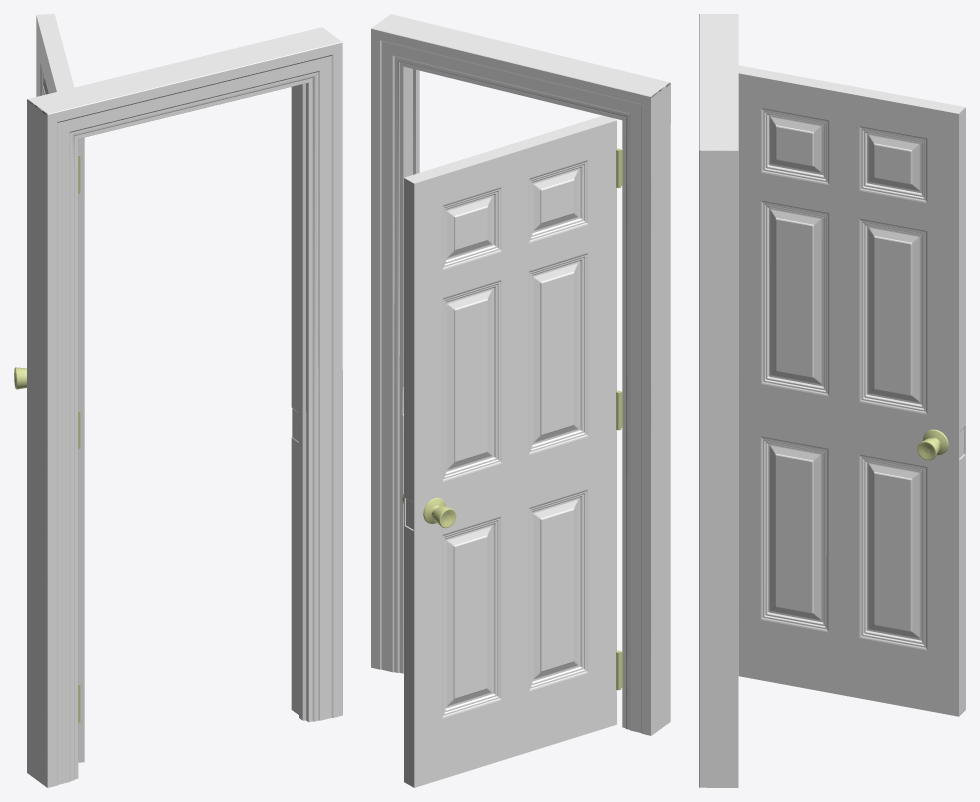
The model's file is panel_interior_door_open_low_detail.glb.
The picture shows the model from 3 angles, left to right: view 1: azimuth 30°, elevation 25°; view 2: azimuth 150°, elevation 25°; view 3: azimuth 270°, elevation 25°; orthographic projection. The views are drawn at different scales.
Visible parts, largest first — view 1: doorFrame_geo, doorBase_geo; view 2: doorBase_geo, doorFrame_geo; view 3: doorBase_geo, doorFrame_geo.
Boxes of the visible parts, bbox=[...] form: doorFrame_geo: bbox=[27, 27, 342, 787]; doorBase_geo: bbox=[36, 14, 84, 762]; doorBase_geo: bbox=[404, 115, 616, 787]; doorFrame_geo: bbox=[371, 14, 670, 735]; doorBase_geo: bbox=[738, 65, 965, 716]; doorFrame_geo: bbox=[699, 14, 738, 787].
Bounding box in the file's own units: 0.9751 × 2.12 × 0.805.
2 materials, 1 textured.
